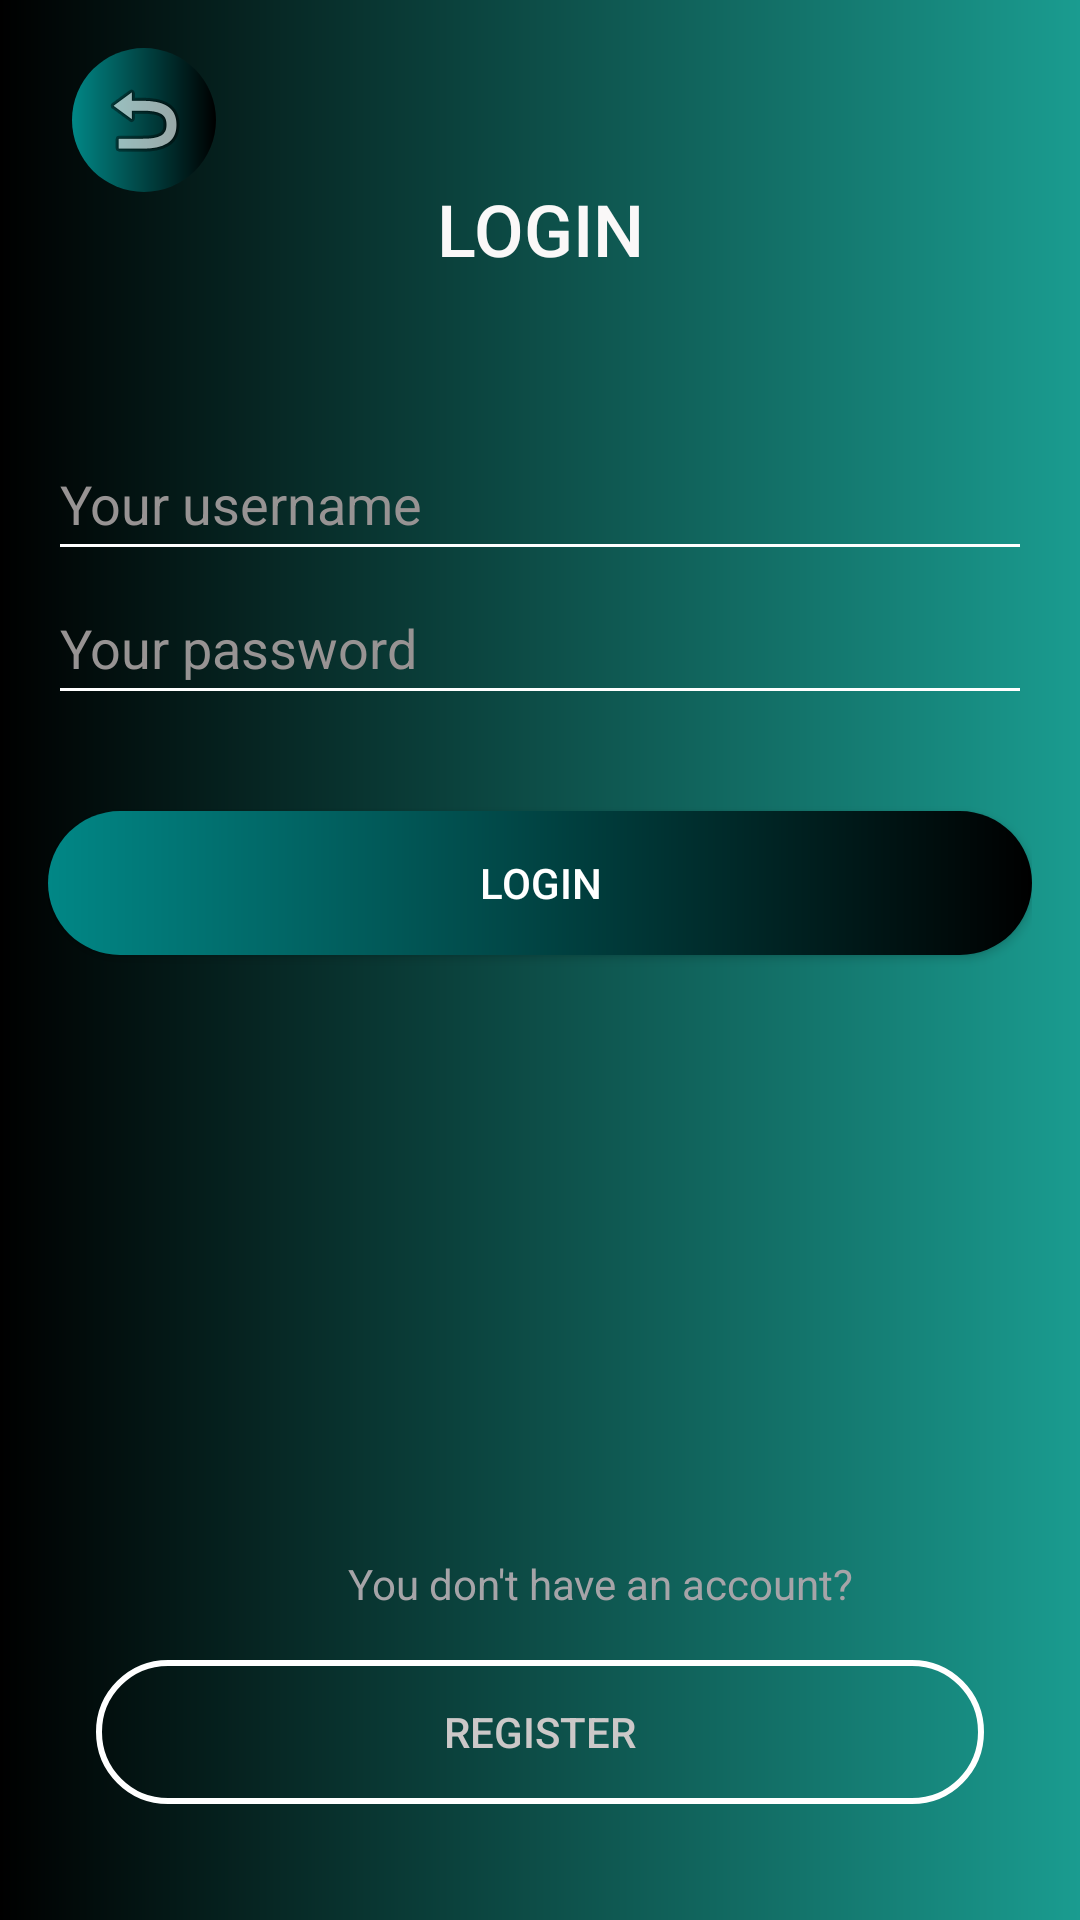

Point at icon controls on the screen. Image size 1080×1920, points as [x,y].
revert: [144,120]
